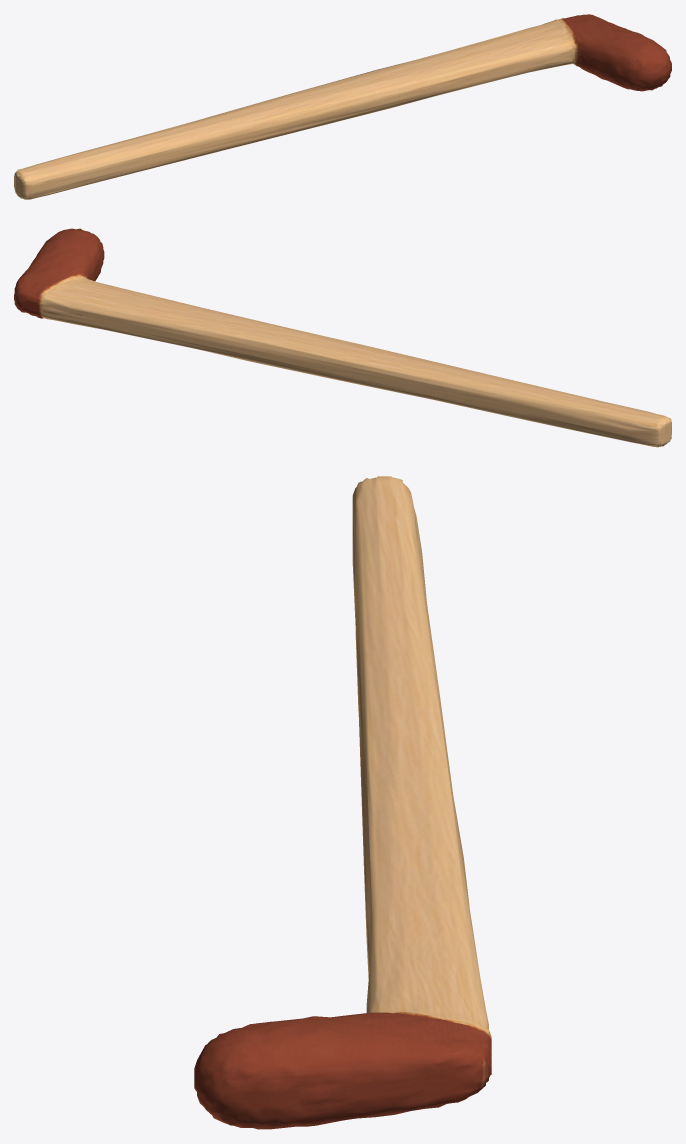
Rendered from selected.glb.
3 views of the same model, one above another, from view 1: azimuth 30°, elevation 25°; view 2: azimuth 150°, elevation 25°; view 3: azimuth 270°, elevation 25° (orthographic). The views are drawn at different scales.
Visible parts, largest first — view 1: tripo_node_4c5051c2-1f58-40f0-9551-ff633c998dc1; view 2: tripo_node_4c5051c2-1f58-40f0-9551-ff633c998dc1; view 3: tripo_node_4c5051c2-1f58-40f0-9551-ff633c998dc1.
Boxes of the visible parts, x1,y1,x2,y2 form: tripo_node_4c5051c2-1f58-40f0-9551-ff633c998dc1: (14,14,671,199); tripo_node_4c5051c2-1f58-40f0-9551-ff633c998dc1: (14,228,671,447); tripo_node_4c5051c2-1f58-40f0-9551-ff633c998dc1: (194,476,491,1129).
Bounding box in the file's own units: 0.998 × 0.0723 × 0.209.
1 material, 1 textured.
